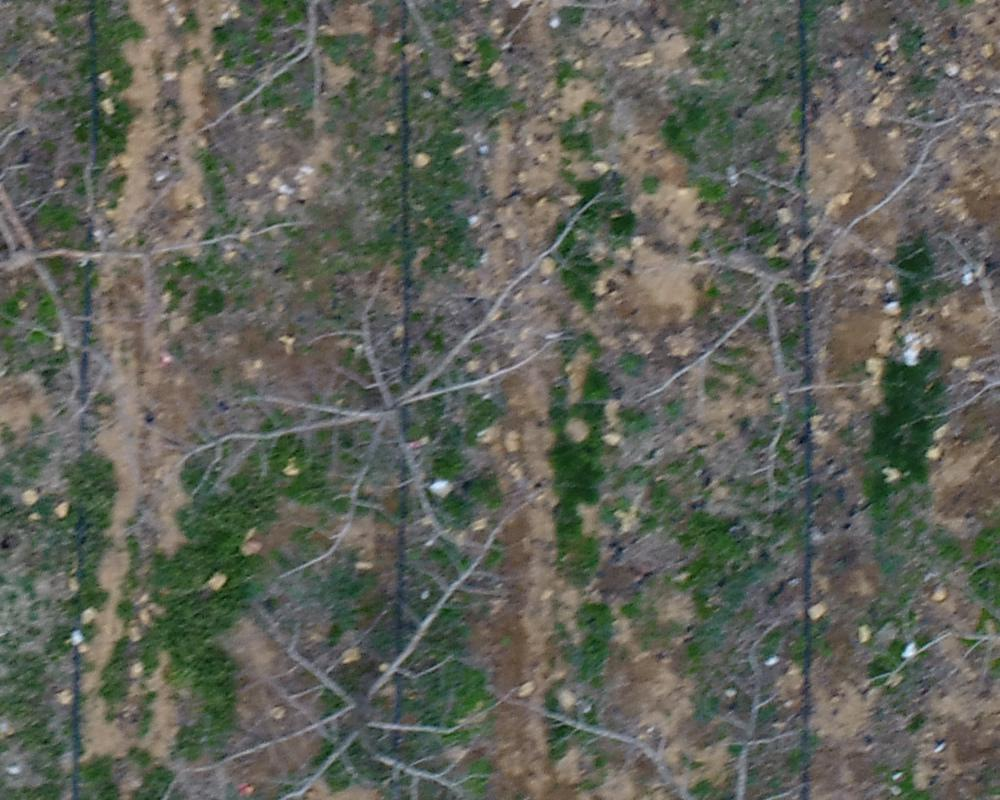apple: (170, 186, 637, 577), (10, 10, 311, 445), (628, 127, 949, 513), (110, 521, 537, 790), (484, 614, 910, 790)
